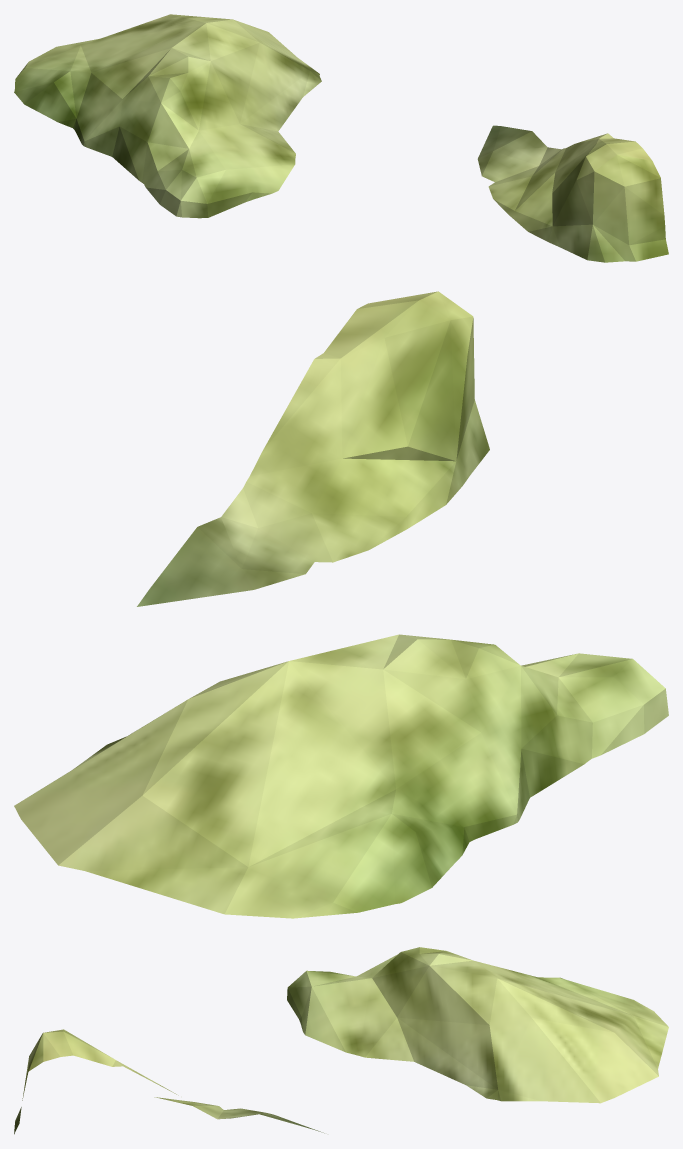
3 views of the same model, one above another, from view 1: azimuth 30°, elevation 25°; view 2: azimuth 150°, elevation 25°; view 3: azimuth 270°, elevation 25° (orthographic). The views are drawn at different scales.
Size of the model in its own units: 1.41 by 0.4003 by 2.7.
1 material, 1 textured.
